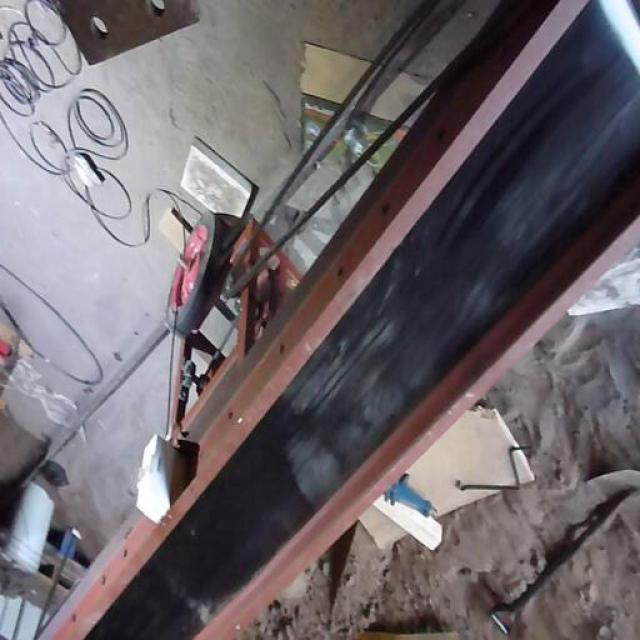conveyor: (82, 0, 640, 640)
